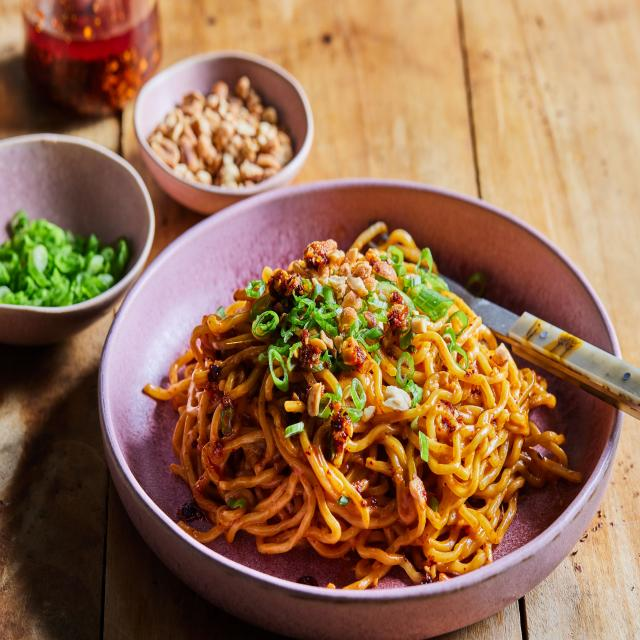noodle: (166, 219, 536, 579)
